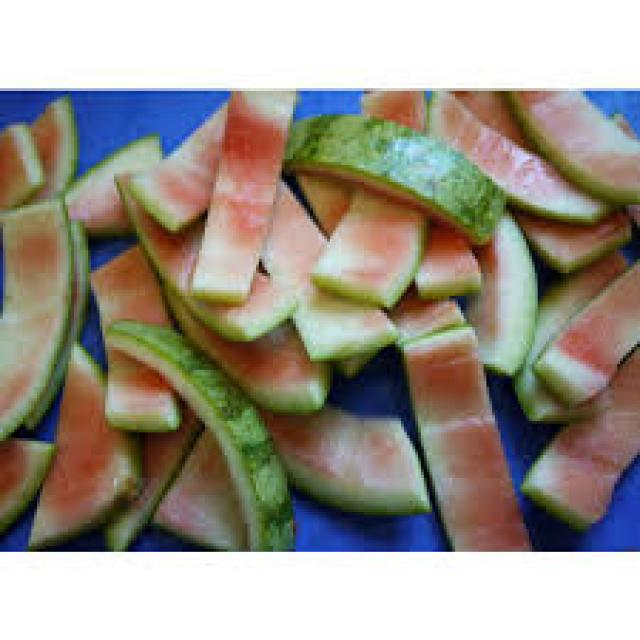Organik: (155, 91, 394, 348), (379, 114, 544, 358), (124, 316, 290, 557), (0, 100, 88, 500), (520, 258, 640, 523), (401, 311, 528, 557), (437, 88, 640, 240), (260, 362, 435, 506), (94, 243, 174, 433), (46, 349, 120, 542), (77, 115, 135, 228)
